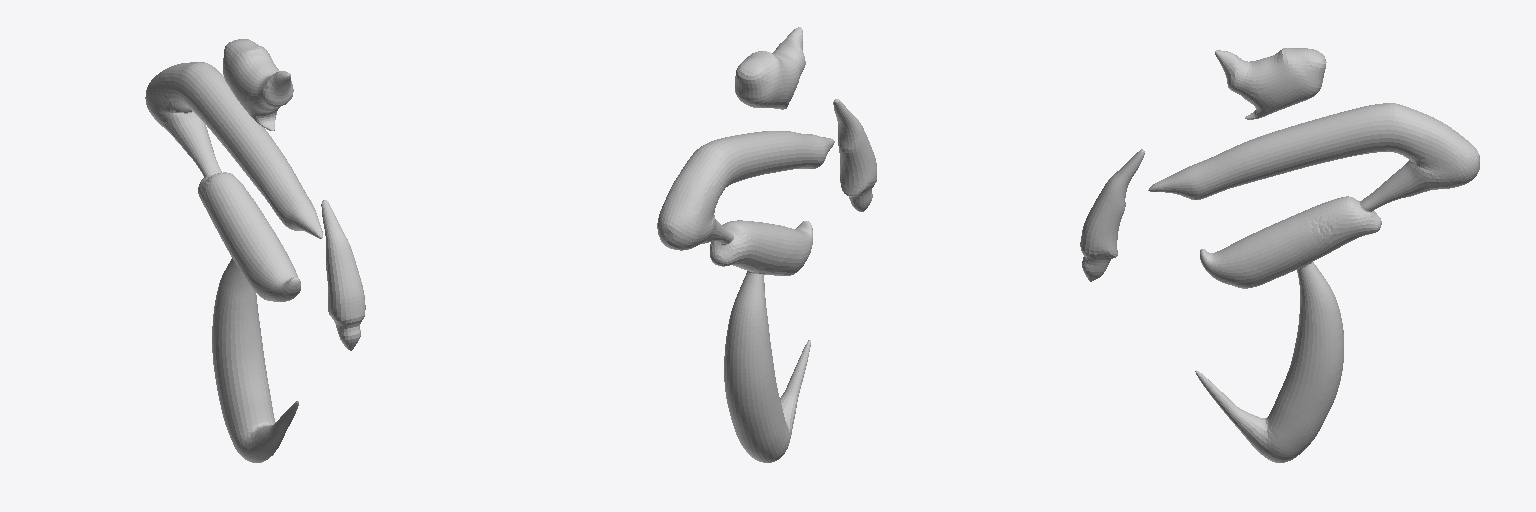
The picture shows the model from 3 angles: view 1: azimuth 30°, elevation 25°; view 2: azimuth 150°, elevation 25°; view 3: azimuth 270°, elevation 25°; orthographic projection.
Parts seen in each view (by area): view 1: tripo_node_9121f92f-0772-4bd1-a5ee-71f03b279d46; view 2: tripo_node_9121f92f-0772-4bd1-a5ee-71f03b279d46; view 3: tripo_node_9121f92f-0772-4bd1-a5ee-71f03b279d46.
Boxes of the visible parts, box(x1,y1,x2,y2) form: tripo_node_9121f92f-0772-4bd1-a5ee-71f03b279d46: box(145, 39, 365, 462); tripo_node_9121f92f-0772-4bd1-a5ee-71f03b279d46: box(657, 27, 876, 462); tripo_node_9121f92f-0772-4bd1-a5ee-71f03b279d46: box(1080, 48, 1479, 462).
Size of the model in its own units: 0.1106 by 0.9996 by 0.8808.